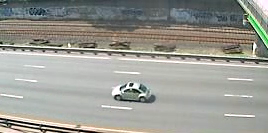car: (109, 80, 154, 105)
